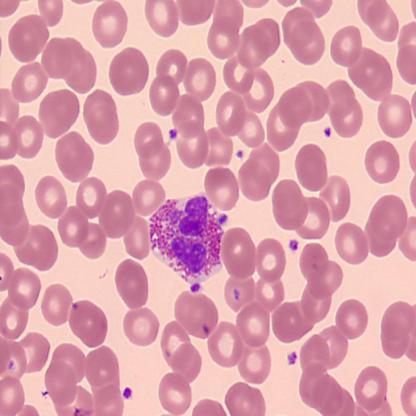Eosinophil: (148, 192, 228, 289)
